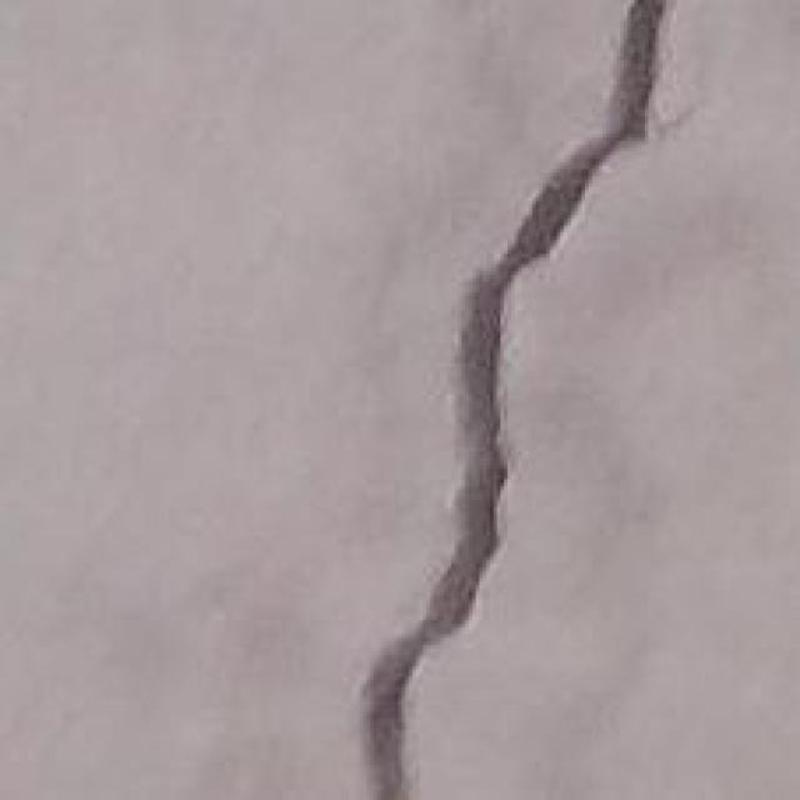pothole: (361, 0, 666, 799)
